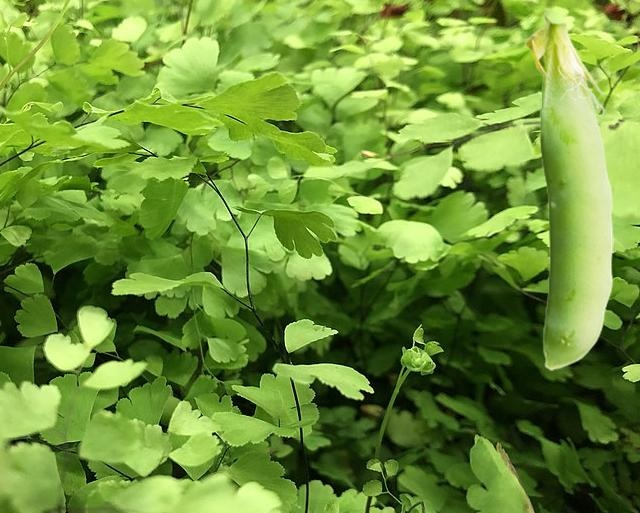pea: (524, 12, 612, 369)
